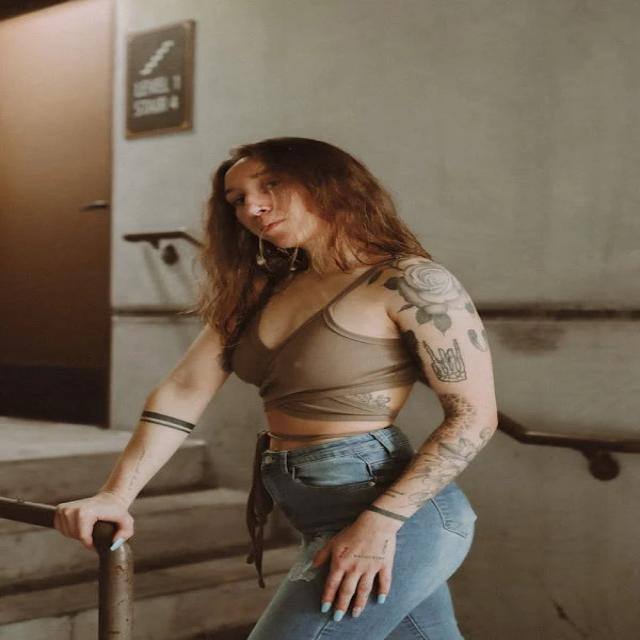Real human 2: (119, 129, 529, 640)
